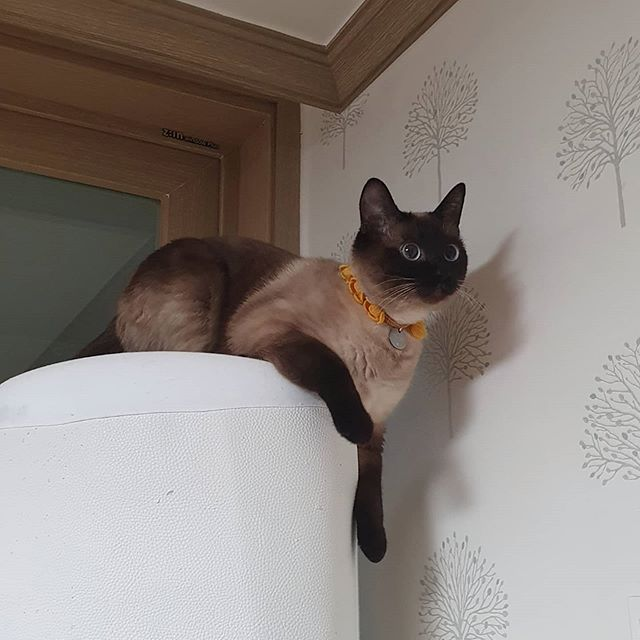cat: (352, 175, 473, 311)
